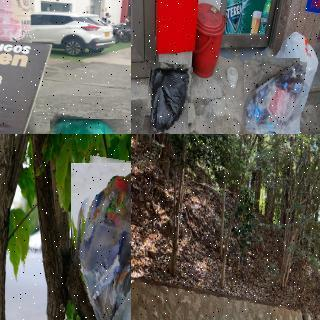Garbage: (62, 159, 131, 320), (241, 56, 303, 134), (278, 33, 319, 121), (145, 62, 190, 134), (48, 116, 125, 134)
